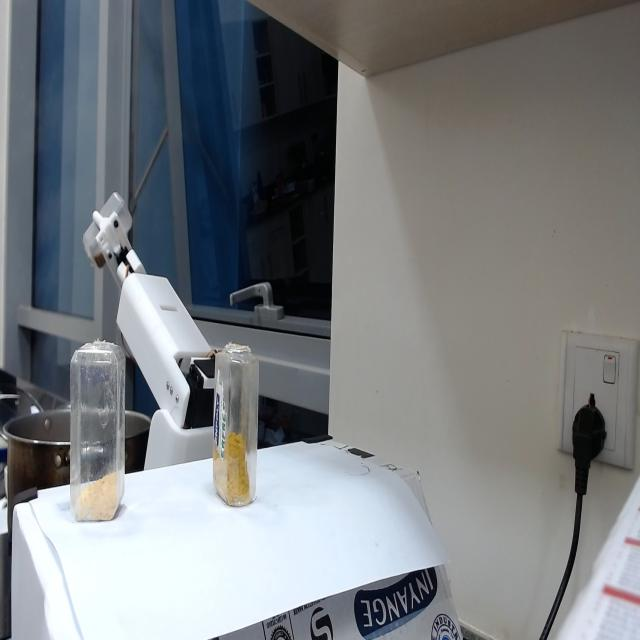cooking_pot: (2, 418, 71, 486)
curry_powder: (211, 440, 252, 508)
garlic_powder: (78, 477, 122, 522)
maggie_open: (87, 247, 106, 274)
